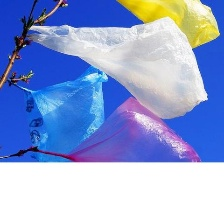plastic_bag: (20, 11, 210, 124), (21, 91, 205, 178), (4, 60, 110, 164), (113, 0, 221, 49)
